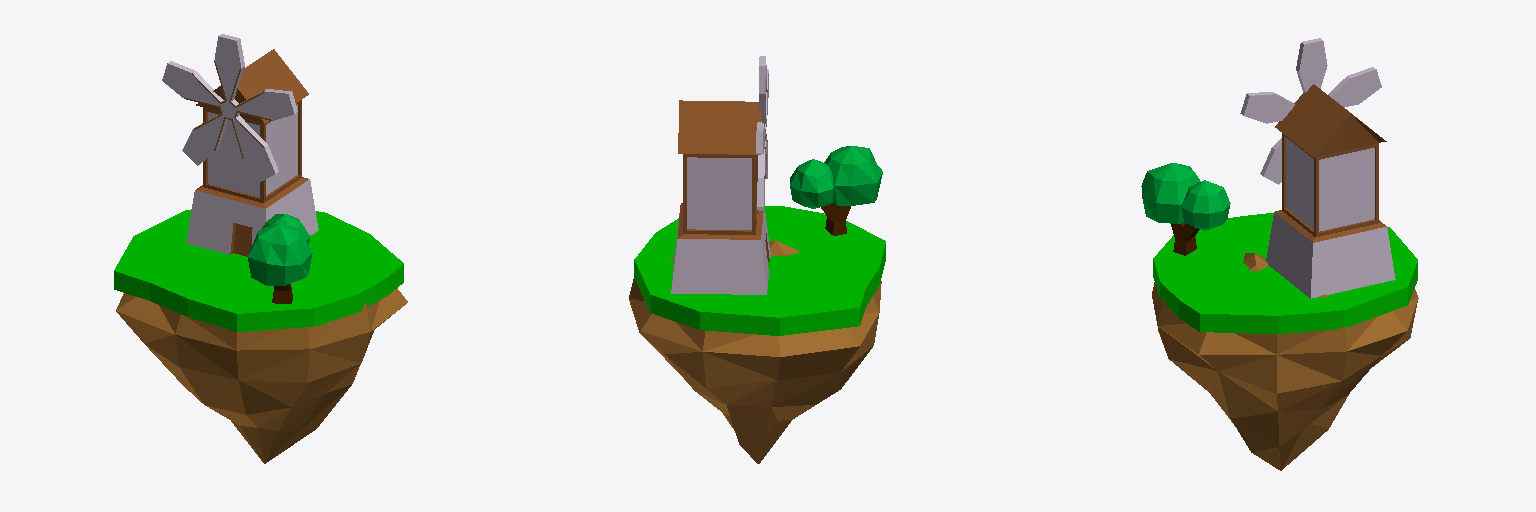
The model's file is mill.obj.
3 views of the same model, side by side, from view 1: azimuth 30°, elevation 25°; view 2: azimuth 150°, elevation 25°; view 3: azimuth 270°, elevation 25° (orthographic).
Visible parts, largest first — view 1: Island, Green_platform, Mill, propeller, Sphere002; view 2: Green_platform, Island, Mill, Sphere002, propeller; view 3: Island, Mill, Green_platform, Sphere002, propeller.
Boxes of the visible parts, x1=… form: Island: x1=116, y1=288, x2=407, y2=463; Green_platform: x1=114, y1=209, x2=403, y2=331; Mill: x1=186, y1=49, x2=318, y2=256; propeller: x1=162, y1=34, x2=297, y2=181; Sphere002: x1=248, y1=214, x2=312, y2=303; Green_platform: x1=634, y1=206, x2=885, y2=335; Island: x1=629, y1=240, x2=881, y2=463; Mill: x1=671, y1=100, x2=770, y2=294; Sphere002: x1=790, y1=146, x2=882, y2=235; propeller: x1=756, y1=56, x2=768, y2=210; Island: x1=1152, y1=253, x2=1418, y2=470; Mill: x1=1266, y1=84, x2=1395, y2=298; Green_platform: x1=1153, y1=213, x2=1417, y2=333; Sphere002: x1=1141, y1=163, x2=1230, y2=255; propeller: x1=1240, y1=38, x2=1381, y2=184.
Bounding box in the file's own units: 105 × 180 × 108.